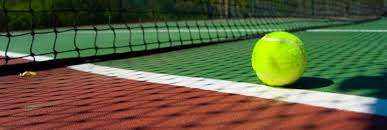tennis_ball: (251, 31, 307, 86)
